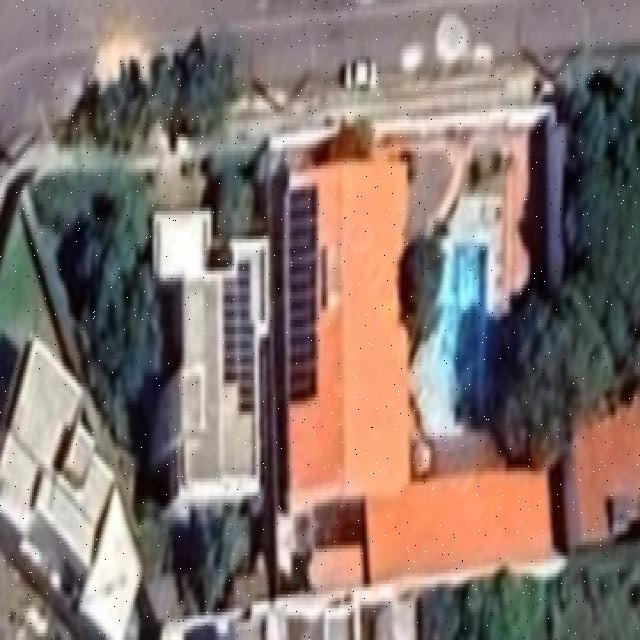painel: (205, 243, 270, 428), (286, 170, 324, 413)
